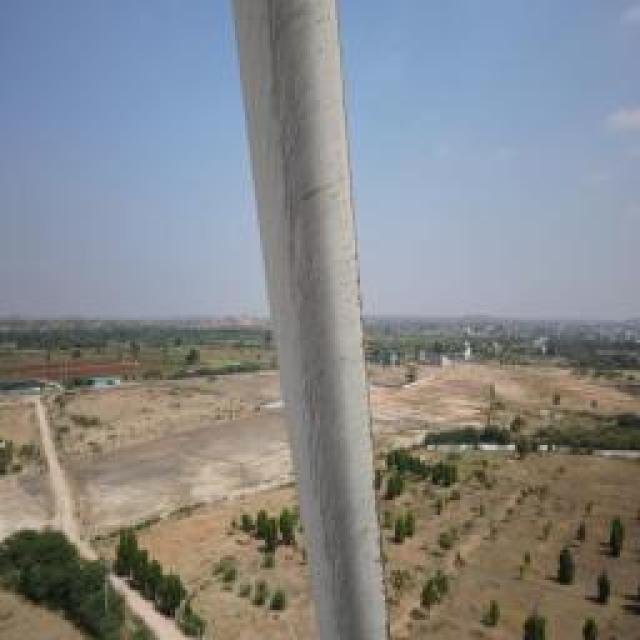Dirt: (264, 0, 394, 640)
